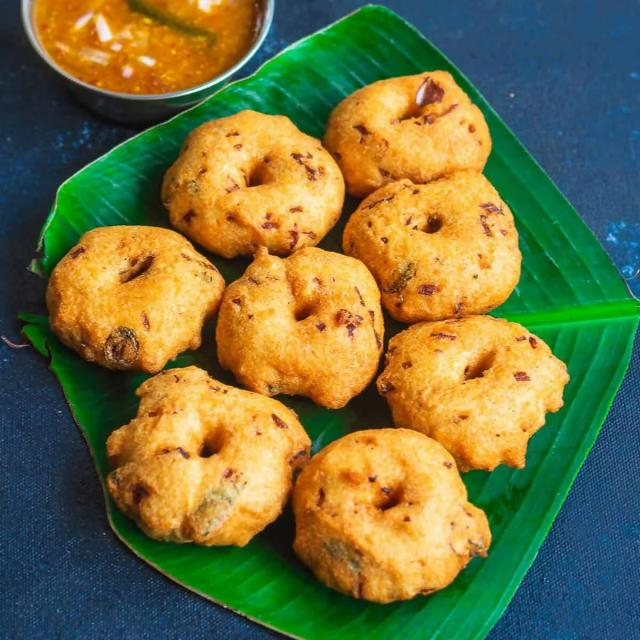medu vadai: (107, 366, 310, 546), (293, 429, 491, 603), (377, 316, 569, 471), (343, 171, 521, 323), (162, 111, 345, 258), (216, 248, 383, 409), (47, 226, 225, 373), (324, 71, 491, 197)
